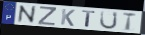K: (60, 8, 77, 28)
N: (17, 5, 37, 24)
T: (122, 12, 138, 32), (82, 10, 97, 28)
U: (99, 11, 119, 31)
Z: (37, 6, 57, 27)
